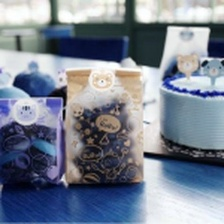snack: (57, 61, 151, 190), (0, 91, 66, 194)
